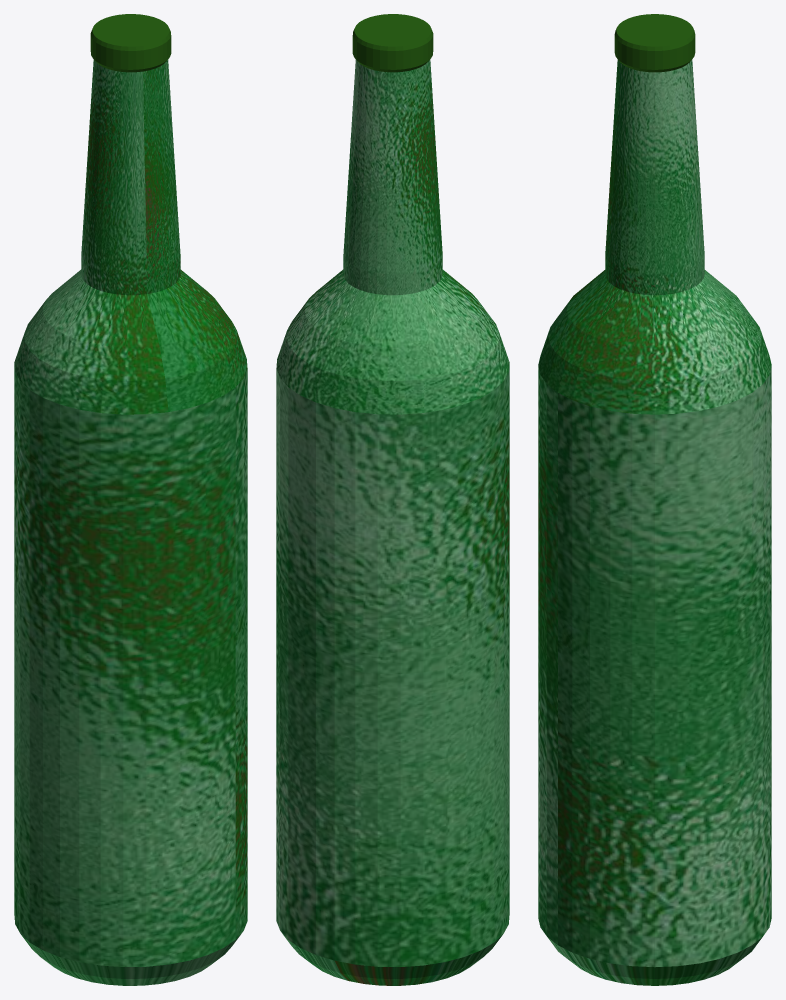
File: glass_bottle.dae
The picture shows the model from 3 angles, left to right: view 1: azimuth 30°, elevation 25°; view 2: azimuth 150°, elevation 25°; view 3: azimuth 270°, elevation 25°; orthographic projection.
Visible parts, largest first — view 1: Cylinder, Cylinder.001; view 2: Cylinder, Cylinder.001; view 3: Cylinder, Cylinder.001.
Boxes of the visible parts, x1,y1,x2,y2 form: Cylinder: (14, 59, 247, 985); Cylinder.001: (90, 14, 171, 72); Cylinder: (276, 59, 509, 985); Cylinder.001: (352, 14, 433, 72); Cylinder: (538, 60, 771, 985); Cylinder.001: (614, 14, 695, 72).
Size of the model in its own units: 0.057 by 0.057 by 0.2494.
